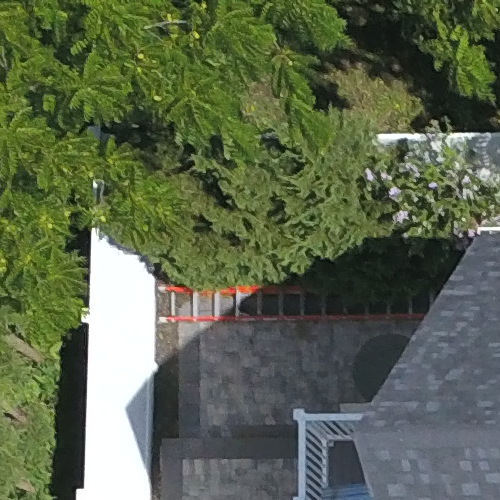ladder: (140, 266, 459, 337)
